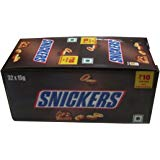snickers: (37, 91, 121, 107), (34, 38, 52, 62), (108, 38, 121, 62)
